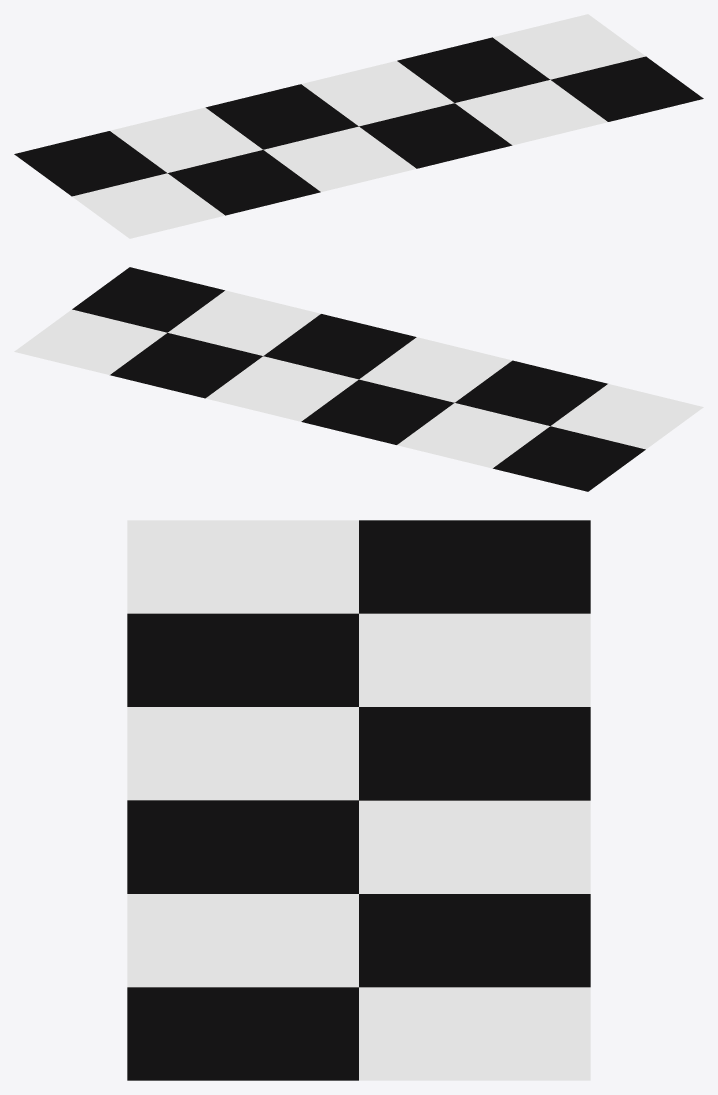
File: FinishLine.fbx
3 views of the same model, one above another, from view 1: azimuth 30°, elevation 25°; view 2: azimuth 150°, elevation 25°; view 3: azimuth 270°, elevation 25° (orthographic). The views are drawn at different scales.
Parts seen in each view (by area): view 1: FinishLine; view 2: FinishLine; view 3: FinishLine.
Part boxes in pixels (x1,y1,x2,y2): FinishLine: (14, 14, 703, 238); FinishLine: (14, 267, 703, 491); FinishLine: (127, 520, 590, 1080).
Size of the model in its own units: 5.73 by 2 by 0.
